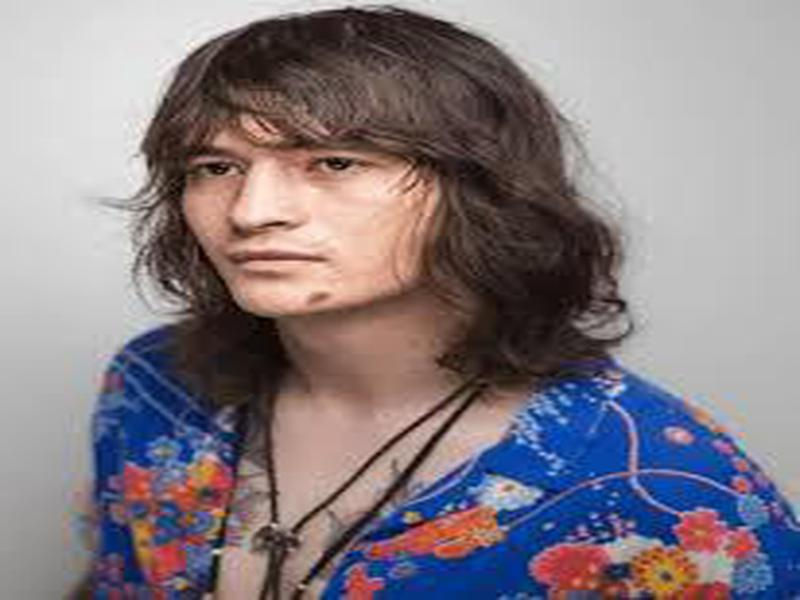without_mask: (176, 121, 448, 319)
